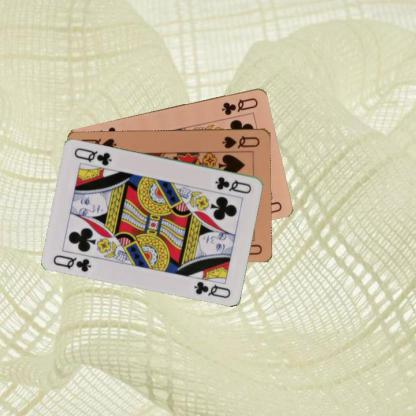Qc: (51, 252, 93, 273), (219, 95, 259, 116), (213, 174, 253, 195)
Qs: (220, 132, 261, 150)
